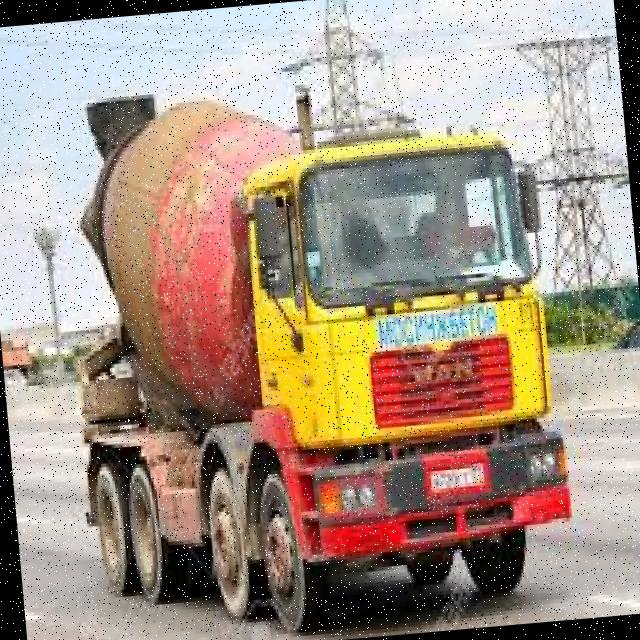Mixer Truck: (44, 57, 582, 640)
